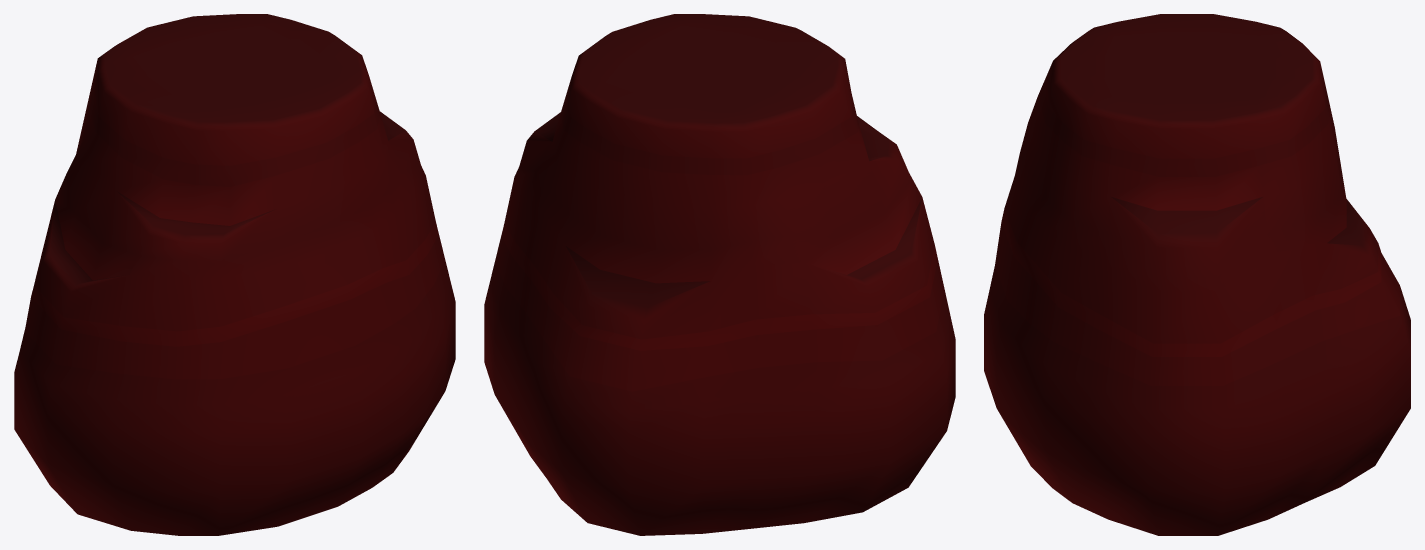
The model's file is geology-landforms-alienpillar_v4.fbx.
The picture shows the model from 3 angles, left to right: view 1: azimuth 30°, elevation 25°; view 2: azimuth 150°, elevation 25°; view 3: azimuth 270°, elevation 25°; orthographic projection.
Visible parts, largest first — view 1: AlienPillar_v4; view 2: AlienPillar_v4; view 3: AlienPillar_v4.
Part boxes in pixels (x1=…): AlienPillar_v4: x1=14, y1=14, x2=455, y2=535; AlienPillar_v4: x1=484, y1=14, x2=955, y2=535; AlienPillar_v4: x1=984, y1=14, x2=1410, y2=535.
Size of the model in its own units: 39.27 by 35.13 by 35.18.
